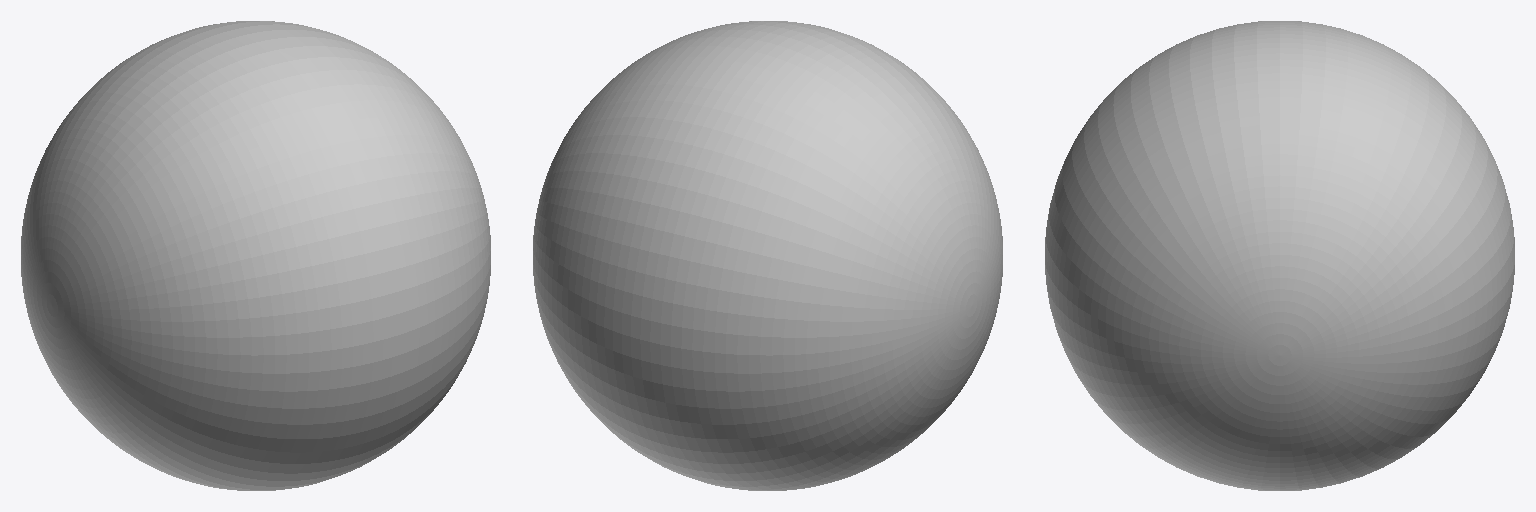
Rendered from Earth.obj.
3 renders of one model, left to right at view 1: azimuth 30°, elevation 25°; view 2: azimuth 150°, elevation 25°; view 3: azimuth 270°, elevation 25°, orthographic.
Parts seen in each view (by area): view 1: Earth_Diffuse_6K.001_Earth_Diffuse_6K.002; view 2: Earth_Diffuse_6K.001_Earth_Diffuse_6K.002; view 3: Earth_Diffuse_6K.001_Earth_Diffuse_6K.002.
Part boxes in pixels (left/top/right/bottom): Earth_Diffuse_6K.001_Earth_Diffuse_6K.002: left=21, top=21, right=490, bottom=490; Earth_Diffuse_6K.001_Earth_Diffuse_6K.002: left=533, top=21, right=1002, bottom=490; Earth_Diffuse_6K.001_Earth_Diffuse_6K.002: left=1045, top=21, right=1514, bottom=490.
Bounding box in the file's own units: 1.14 × 1.14 × 1.14.